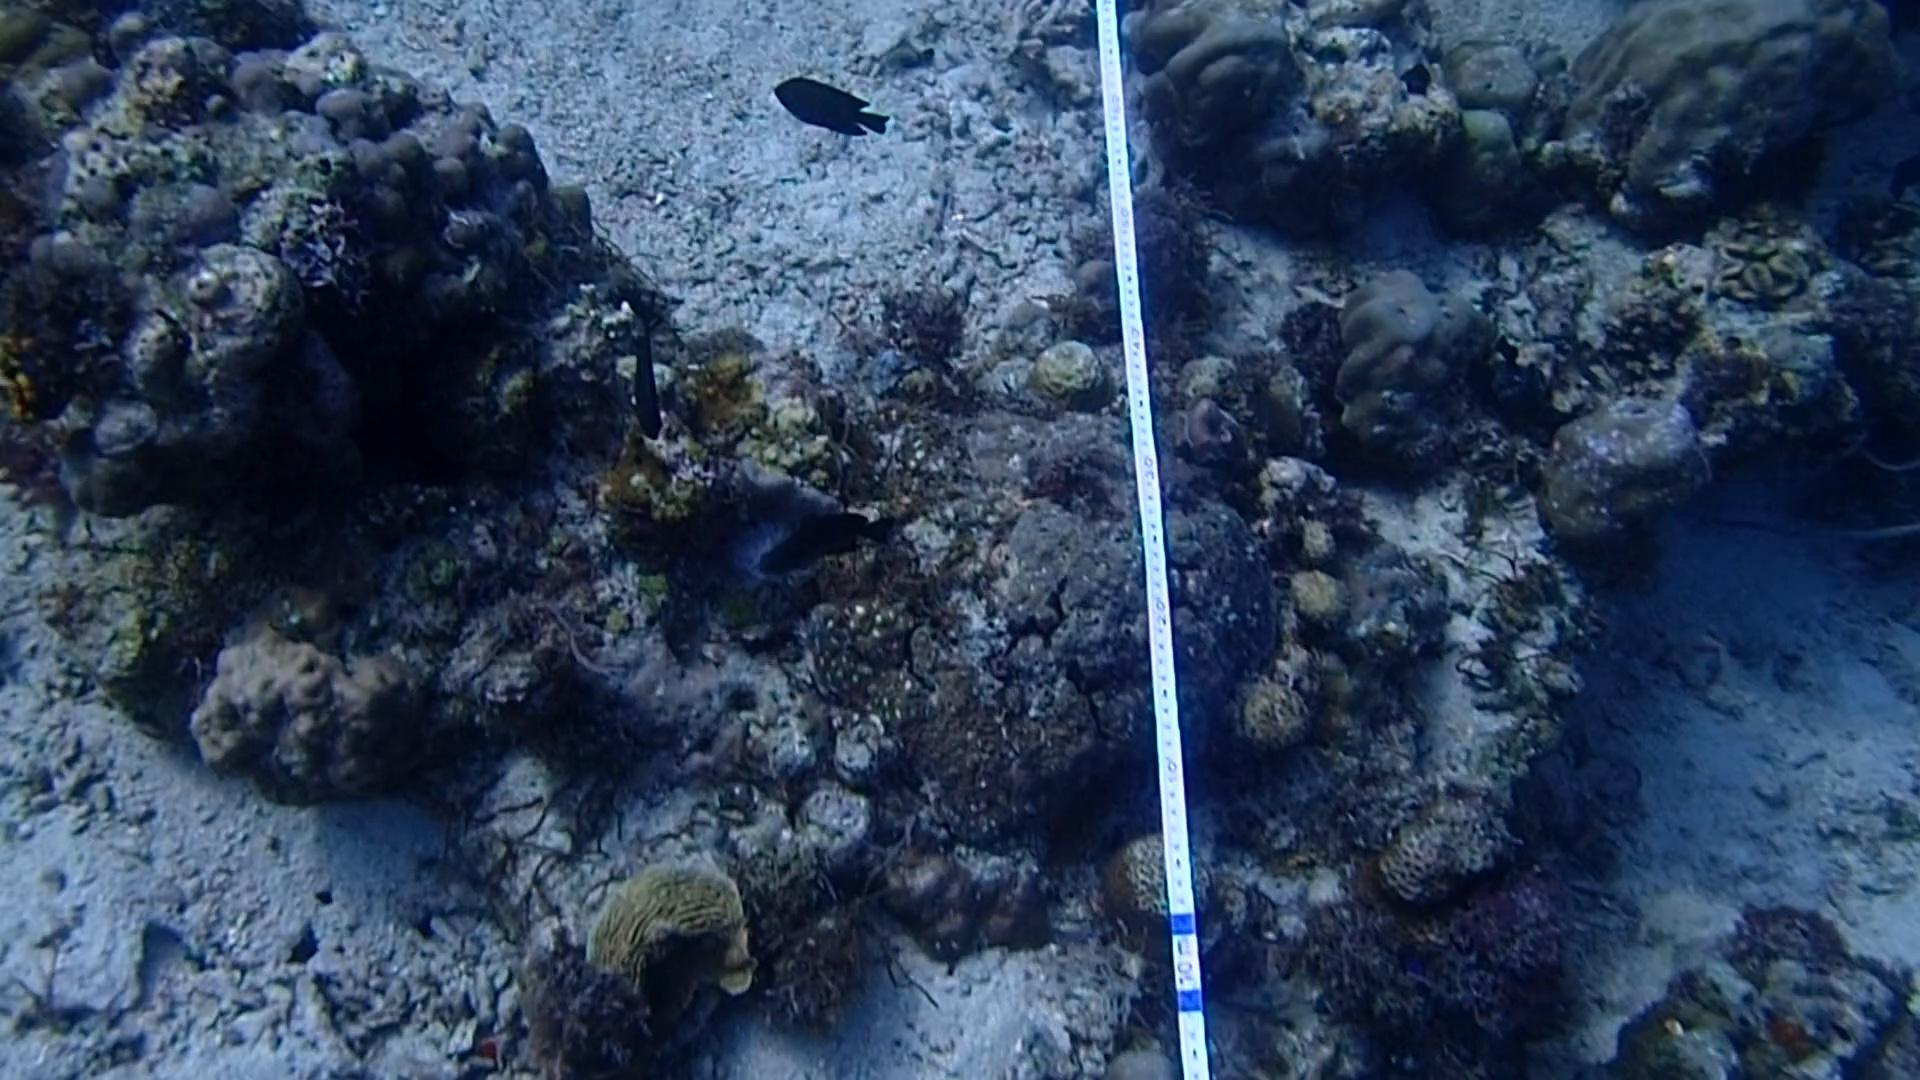Dark Fish: (745, 491, 905, 593), (757, 59, 907, 156), (615, 297, 675, 440)
